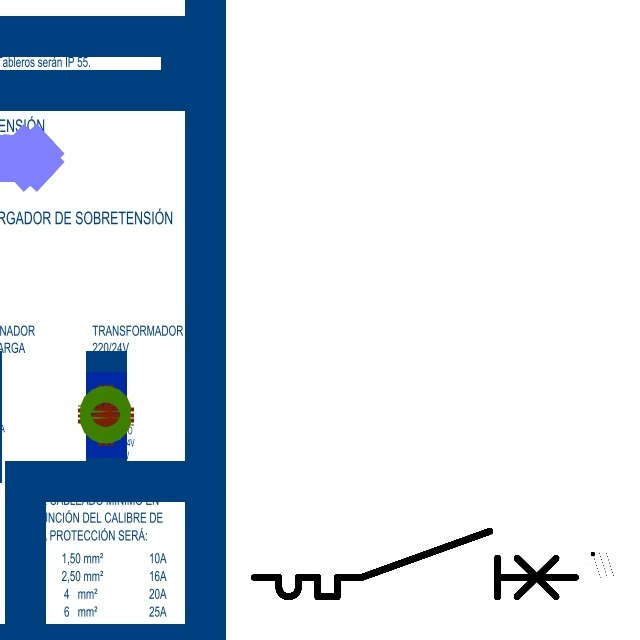interruptor_termomagnetico: (246, 523, 583, 605)
